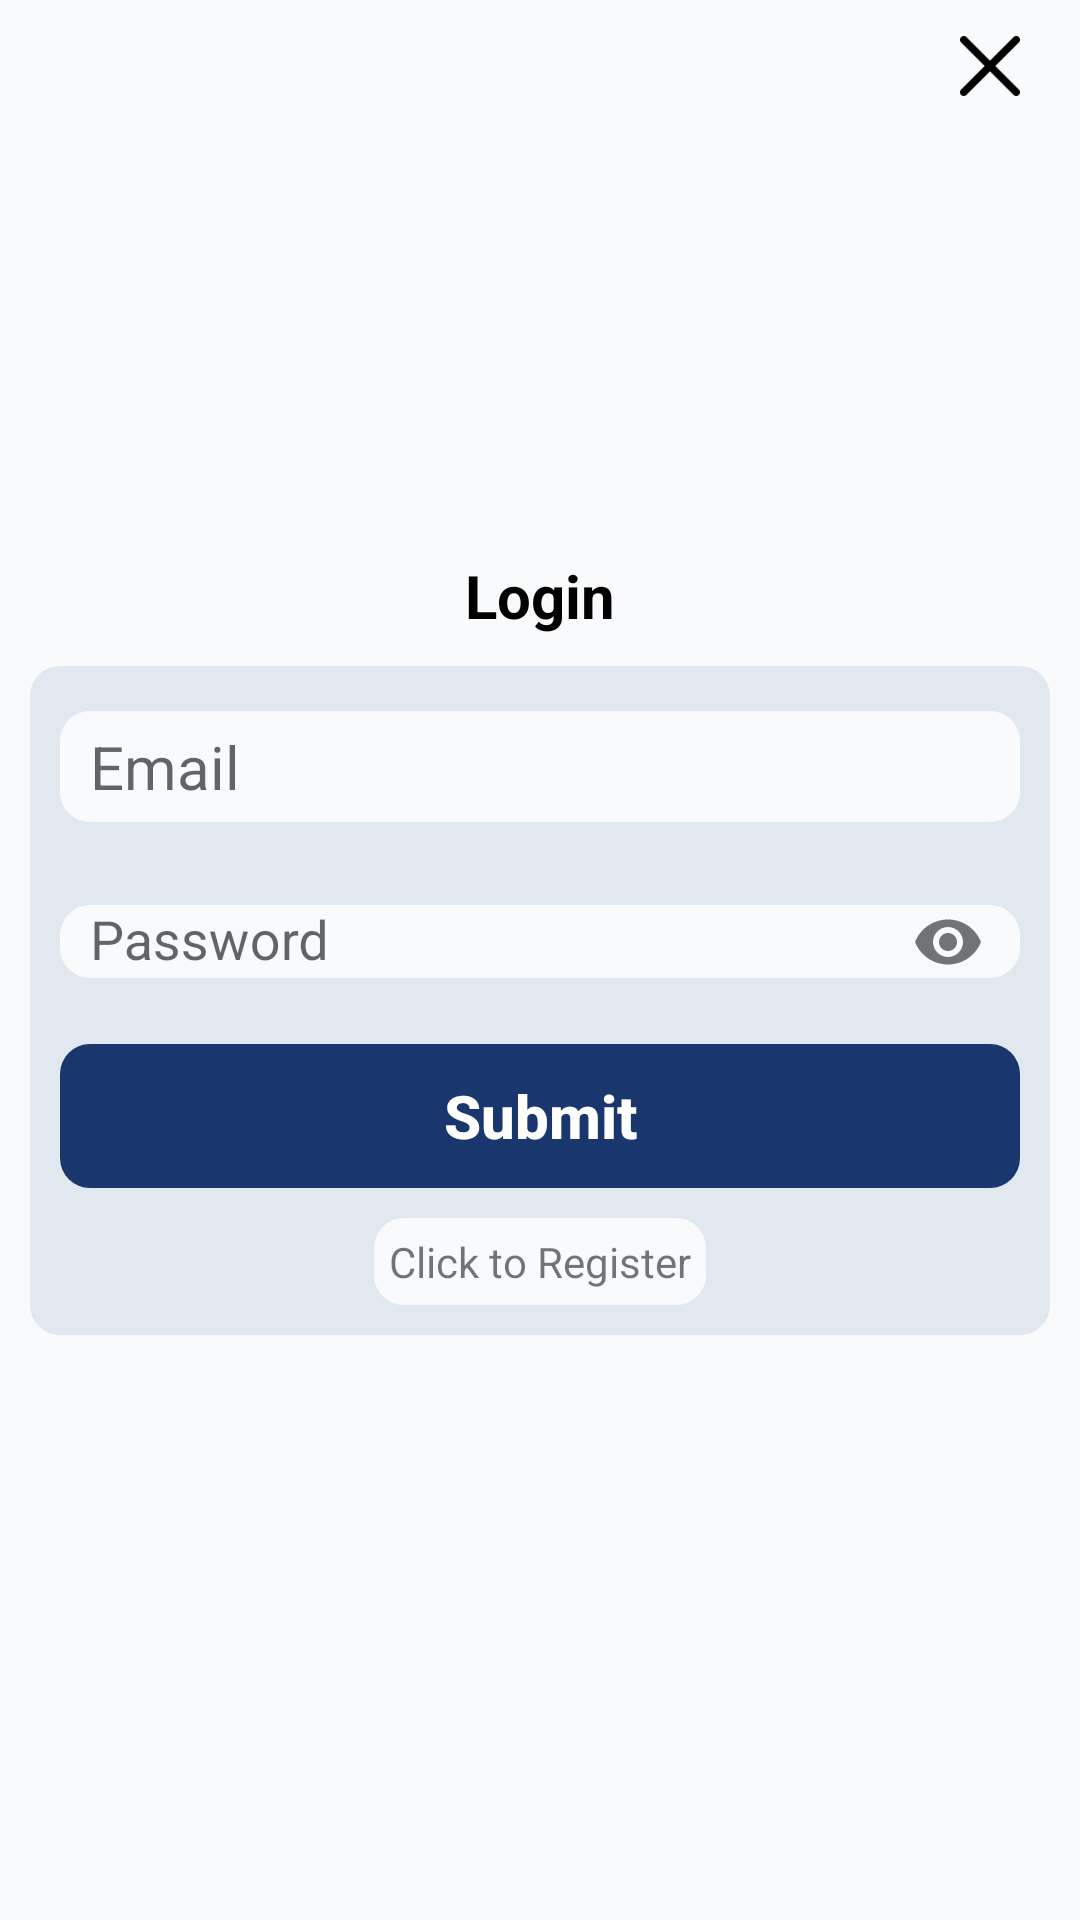

Named icons in this screenshot (1080 × 1920) and their centers, (x,y):
cross: (990,66)
